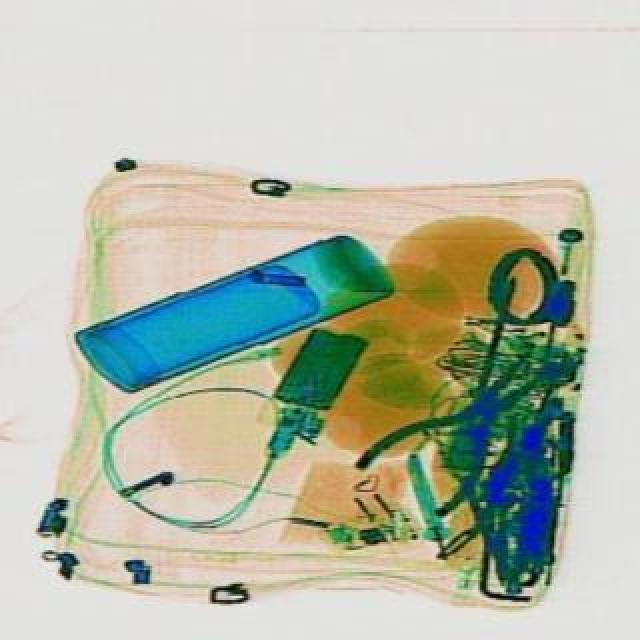wrench: (348, 322, 580, 532)
